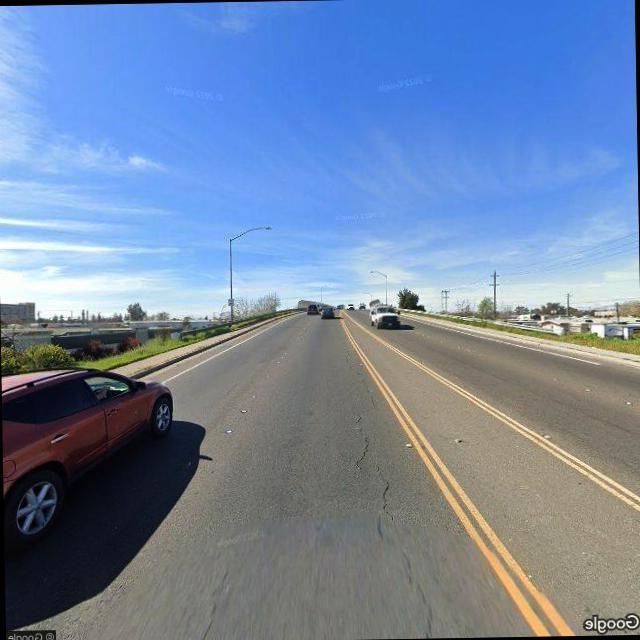pothole: (352, 404, 398, 528)
